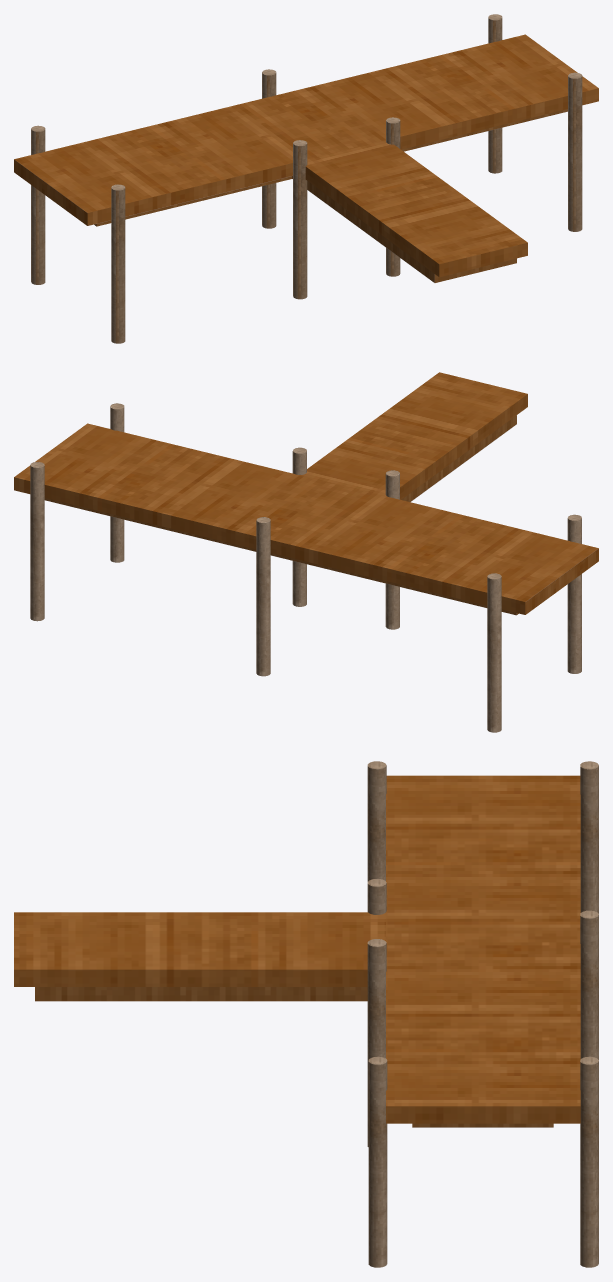
File: Dock.fbx
3 renders of one model, top to bottom at view 1: azimuth 30°, elevation 25°; view 2: azimuth 150°, elevation 25°; view 3: azimuth 270°, elevation 25°, orthographic. The views are drawn at different scales.
Parts seen in each view (by area): view 1: Dock; view 2: Dock; view 3: Dock.
Part boxes in pixels (bbox=[...]): Dock: bbox=[14, 14, 598, 343]; Dock: bbox=[14, 372, 598, 732]; Dock: bbox=[14, 761, 598, 1267].
Bounding box in the file's own units: 783 × 224 × 586.
1 material, 1 textured.
